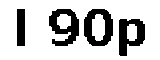0: (83, 7, 114, 47)
9: (45, 6, 80, 48)
l: (9, 6, 32, 51)
p: (116, 14, 147, 60)
